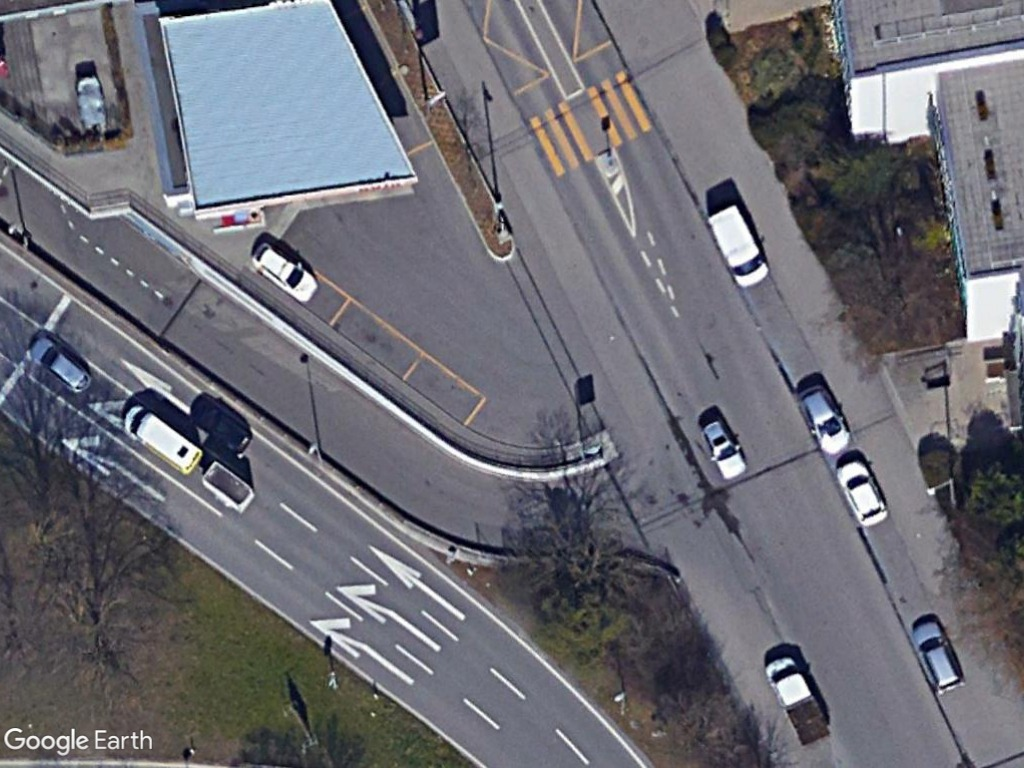car: (910, 614, 968, 696), (833, 453, 893, 530), (796, 378, 853, 458), (25, 334, 94, 398), (248, 243, 319, 304), (698, 413, 748, 482)
van: (702, 197, 772, 292), (121, 402, 206, 475)
